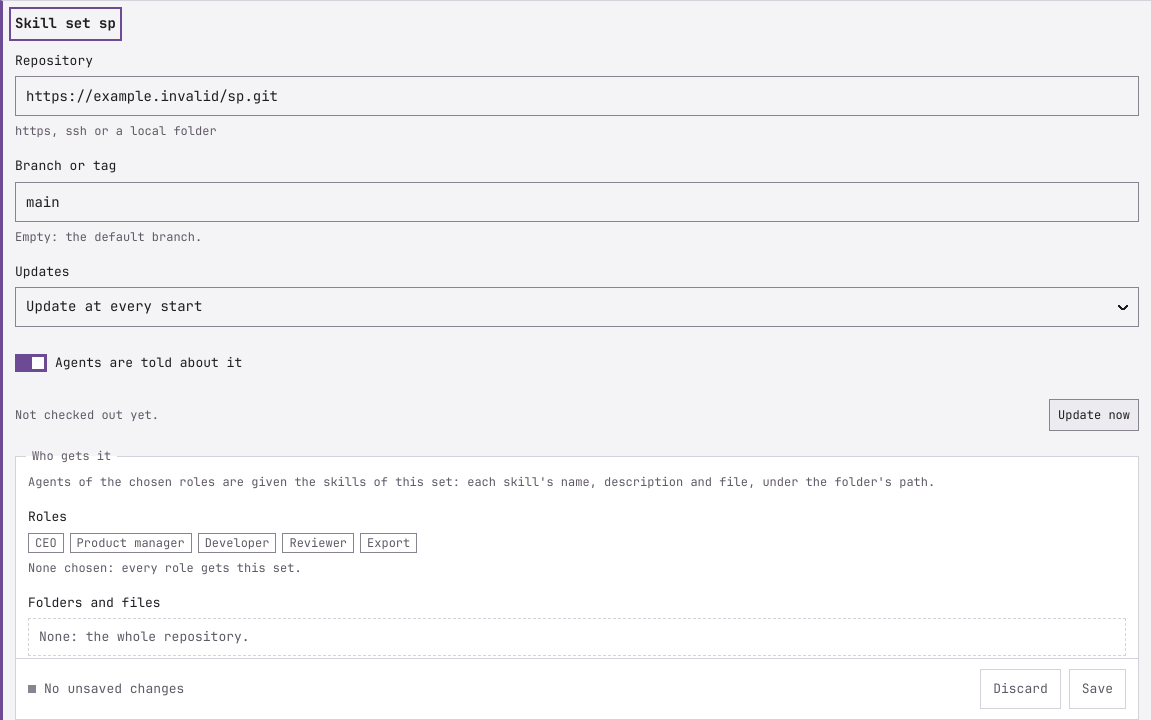
Scenario: a refused repository shows the server message under it; one naming a key the form lacks is shown at the top
The width and height of the screenshot is (1152, 720).
Replace the text in the field labelled "Repository" with "ext::sh -c boom" at [577, 96], box [15,76,1139,116]
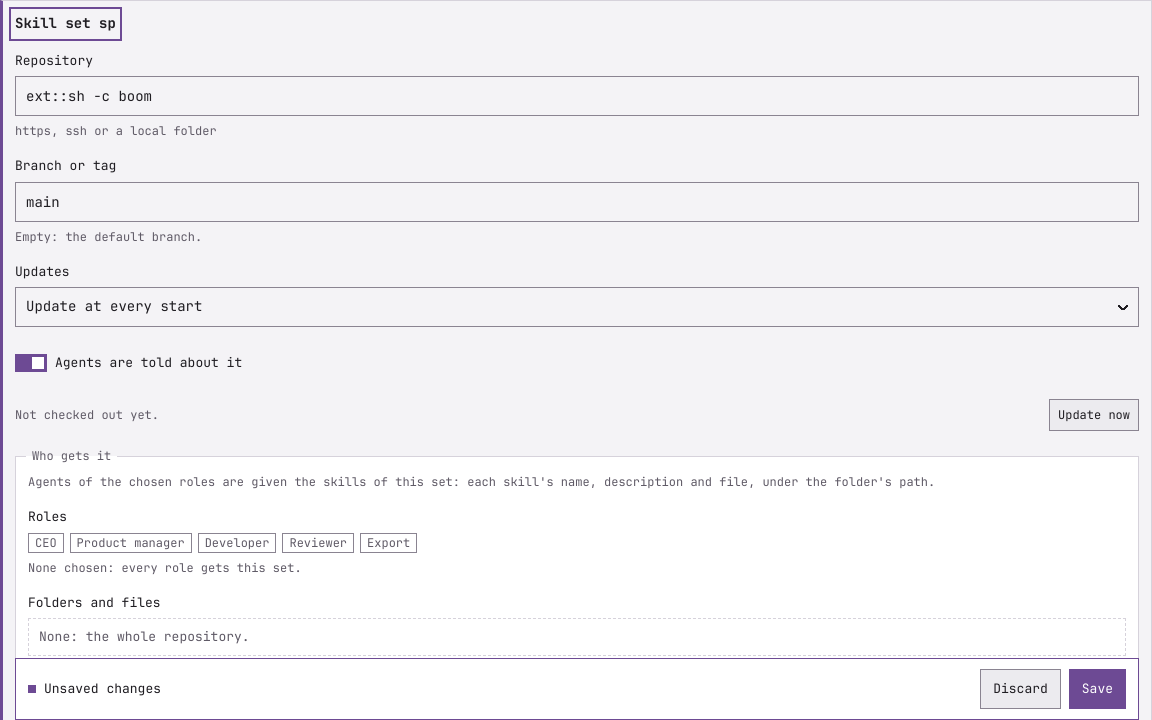
Click the button "Save" at [1097, 689], box [1069,669,1126,709]
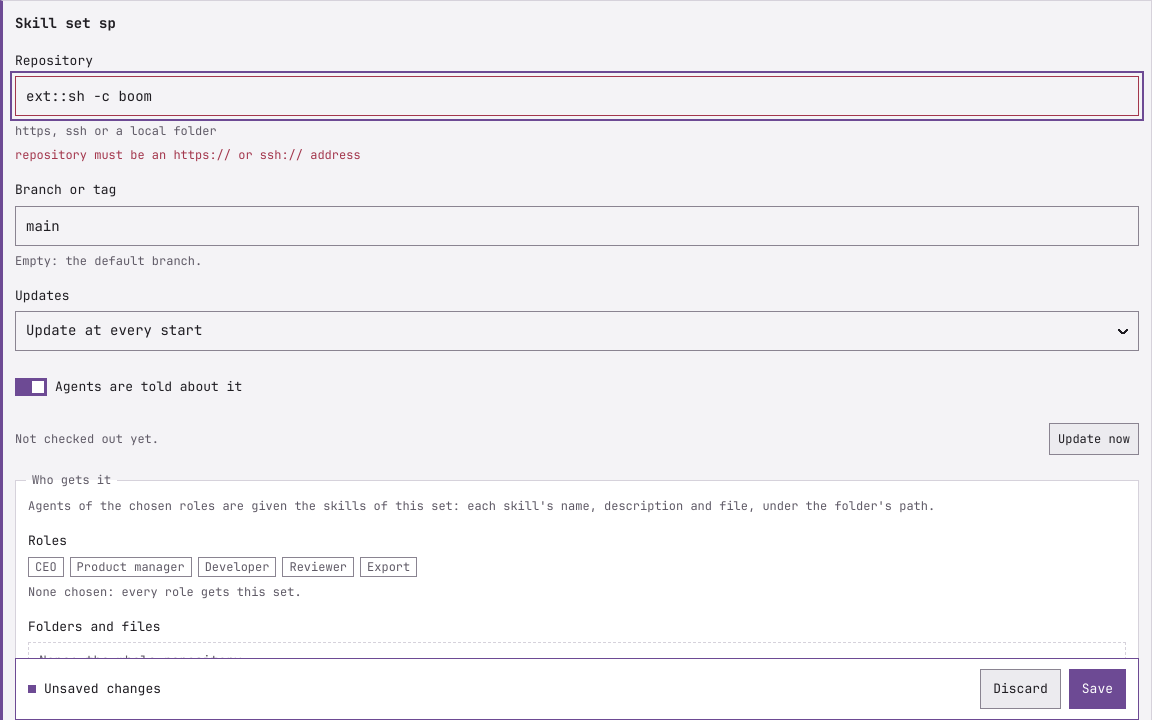
Expected: the element that starts with "Repository" shows "repository must be an https:// or ssh:// address", [15,147,361,163]
Click the button "Save" at [1097, 689], box [1069,669,1126,709]
(page scrolled)
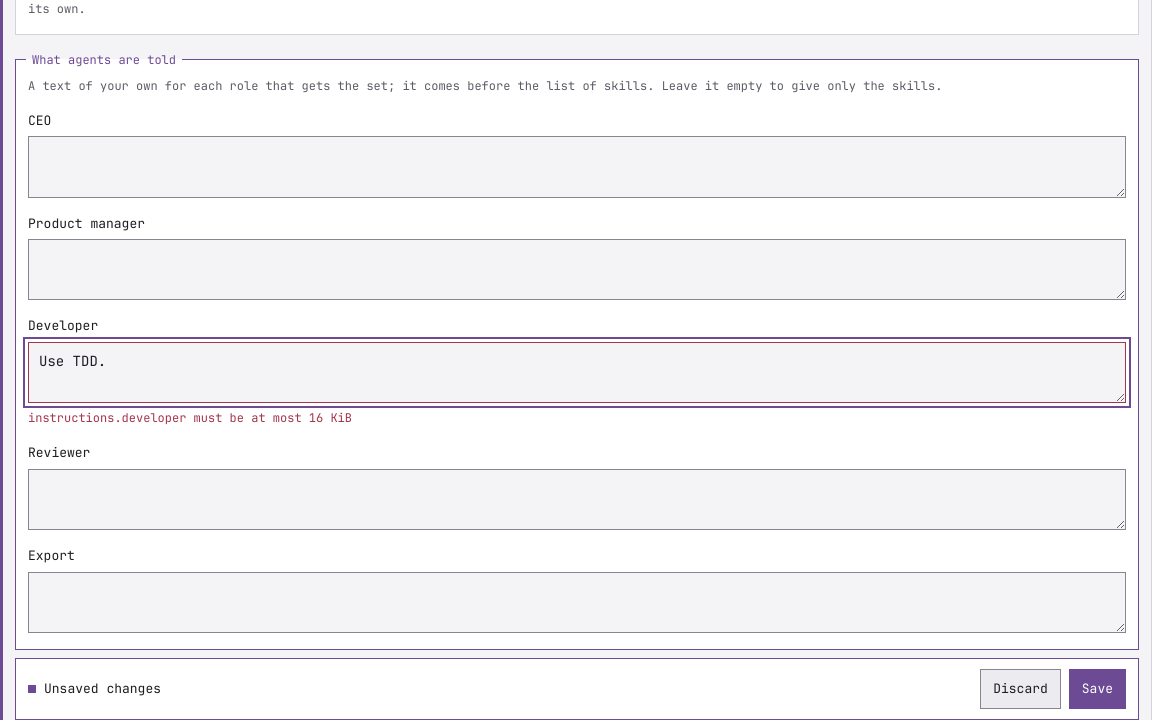
Expected: the text "instructions.developer must be at most 16 KiB" is shown, [28,410,352,426]
Click the button "Save" at [1097, 689], box [1069,669,1126,709]
(page scrolled)
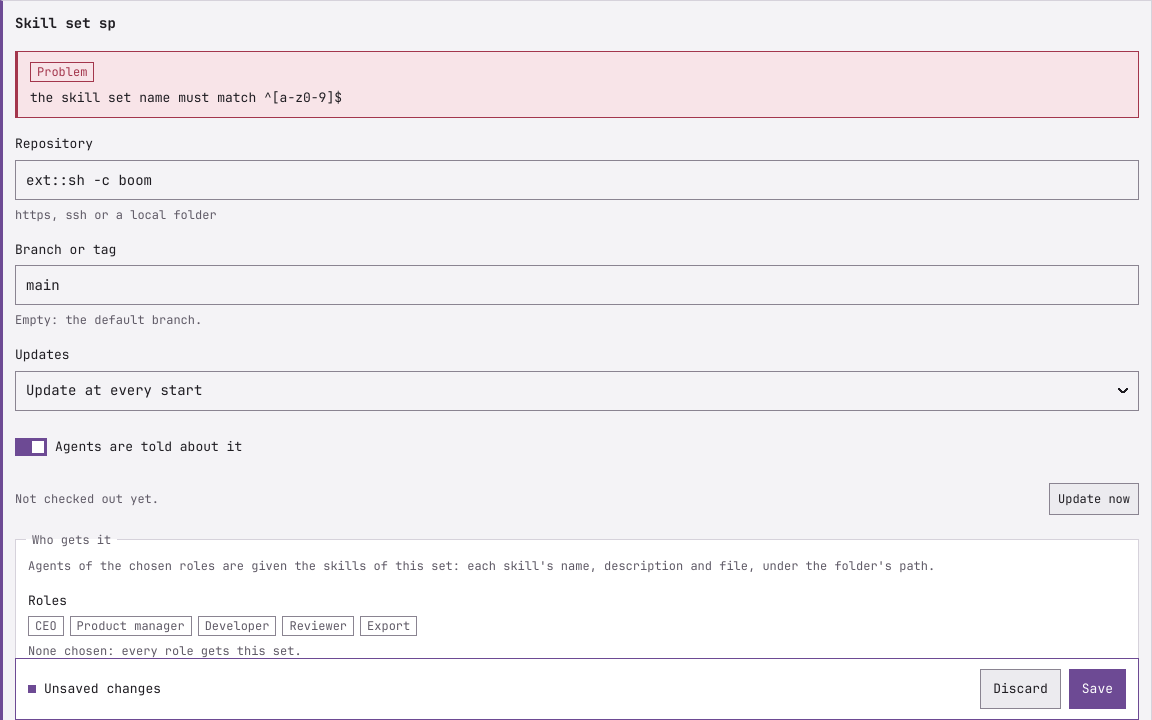
Expected: the element with class "callout__body" reads "the skill set name must match ^[a-z0-9]$", [30,89,342,106]
